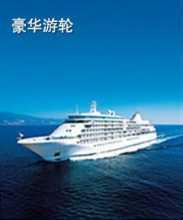youlun: (18, 101, 156, 165)
